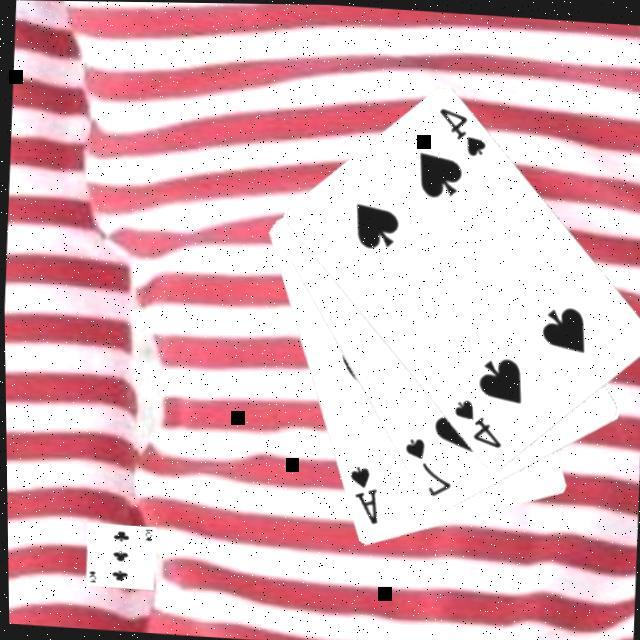4S: (446, 395, 506, 453), (432, 105, 490, 163)
7S: (396, 434, 454, 504)
AS: (340, 464, 380, 530)
